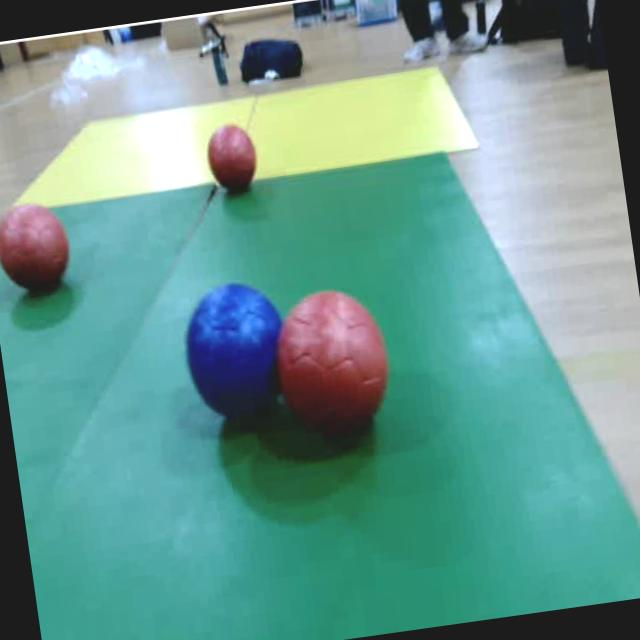blue_ball: (178, 278, 284, 431)
red_ball: (267, 280, 403, 455), (0, 195, 79, 300), (202, 116, 261, 196)
